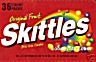grozi_38: (0, 0, 96, 61)
